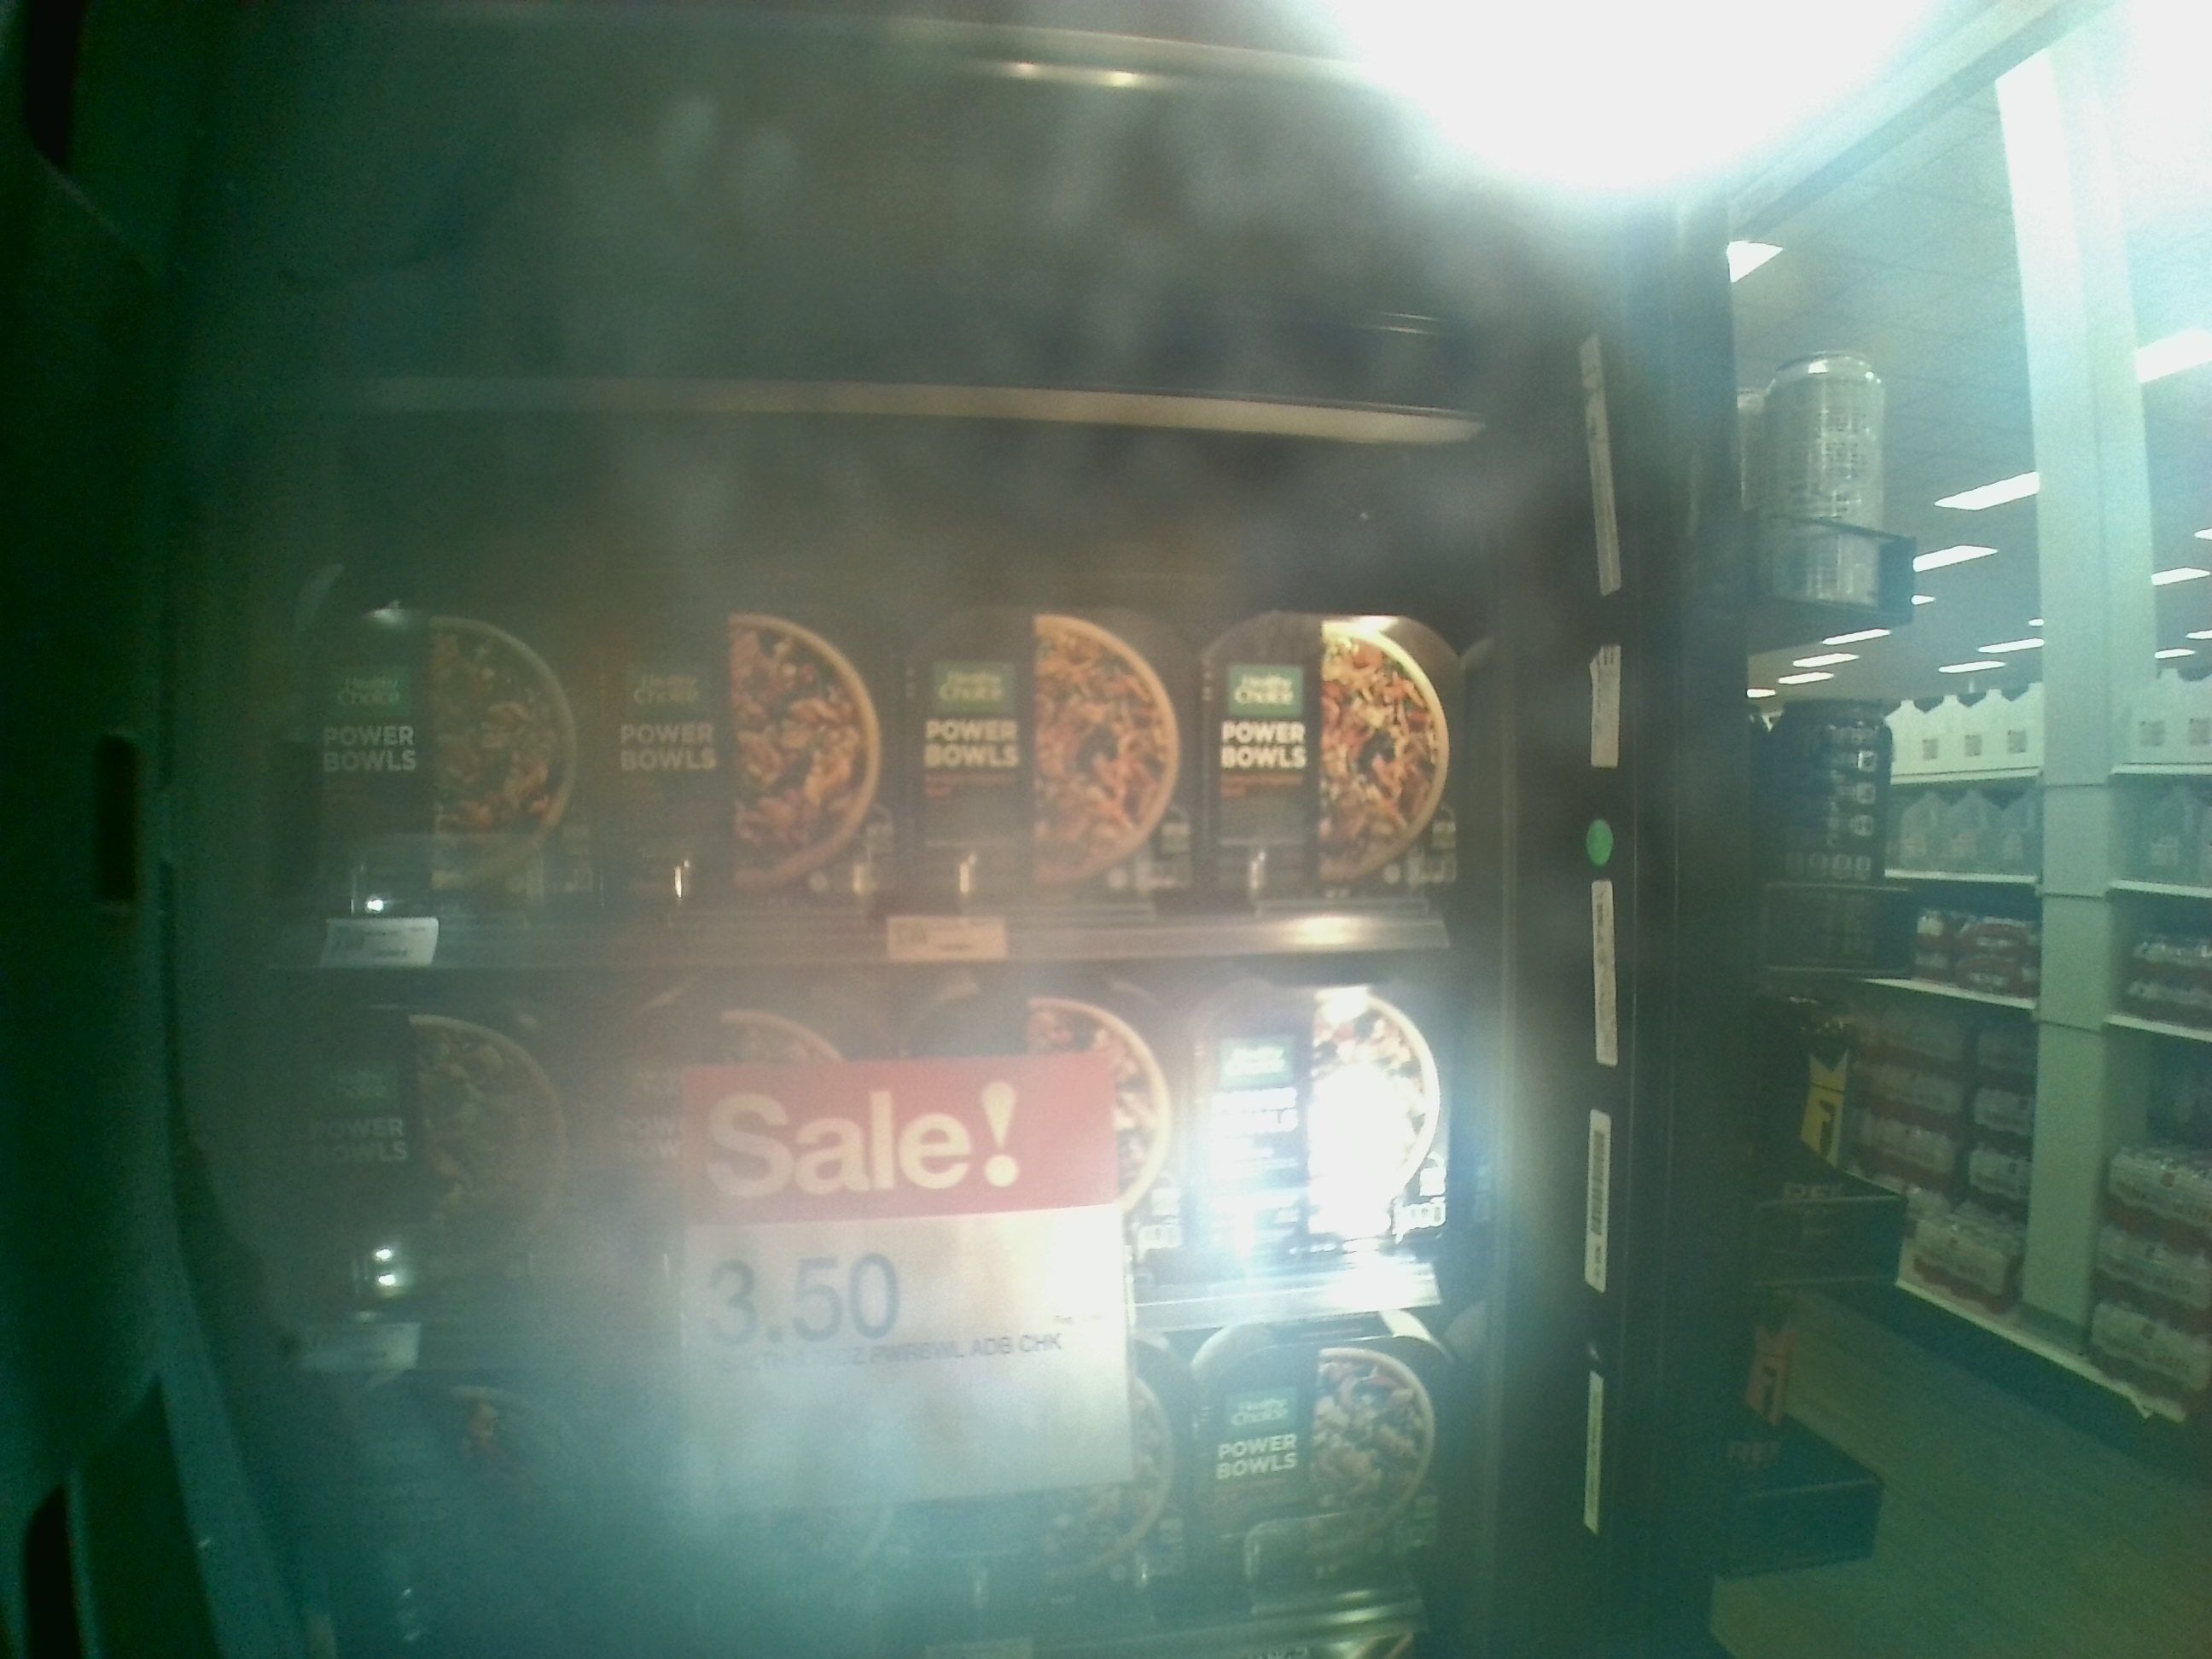shelf: (282, 385, 1470, 962), (300, 957, 1467, 1361)
